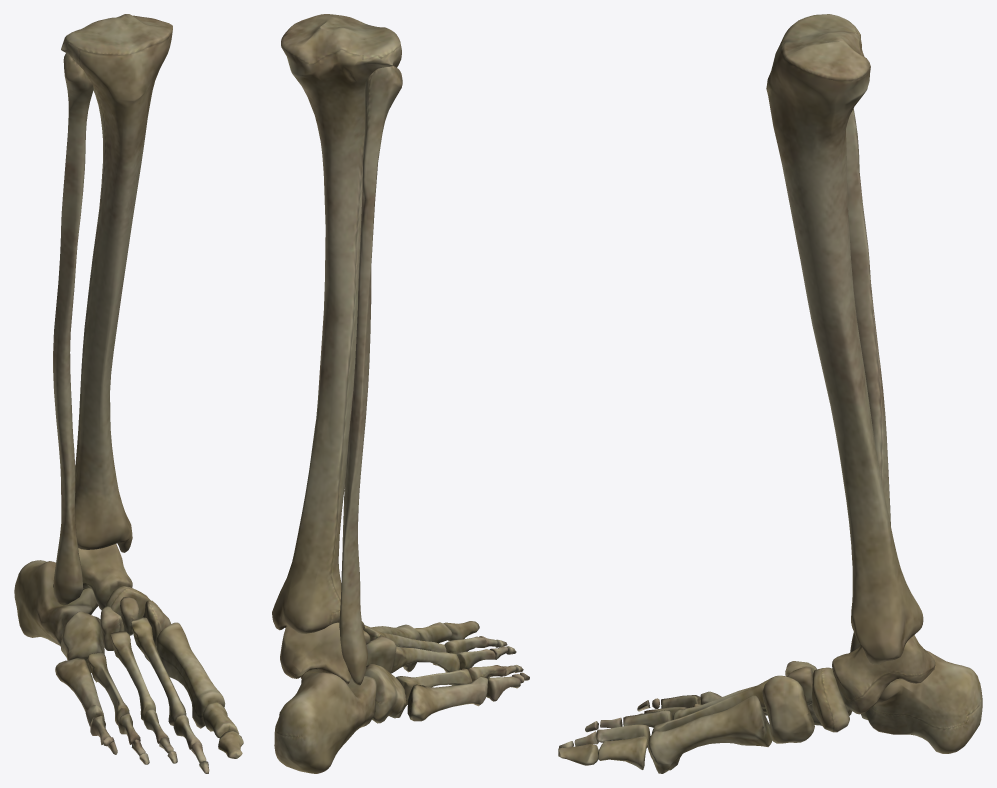
The model's file is Foot.glb.
The picture shows the model from 3 angles, left to right: view 1: azimuth 30°, elevation 25°; view 2: azimuth 150°, elevation 25°; view 3: azimuth 270°, elevation 25°; orthographic projection. The views are drawn at different scales.
Visible parts, largest first — view 1: Skeletal_Tibia2; view 2: Skeletal_Tibia2; view 3: Skeletal_Tibia2.
Part boxes in pixels (x1=…): Skeletal_Tibia2: x1=14, y1=14, x2=243, y2=773; Skeletal_Tibia2: x1=272, y1=14, x2=529, y2=773; Skeletal_Tibia2: x1=558, y1=14, x2=982, y2=773.
Size of the model in its own units: 0.1184 by 0.52 by 0.2725.
1 material, 1 textured.
